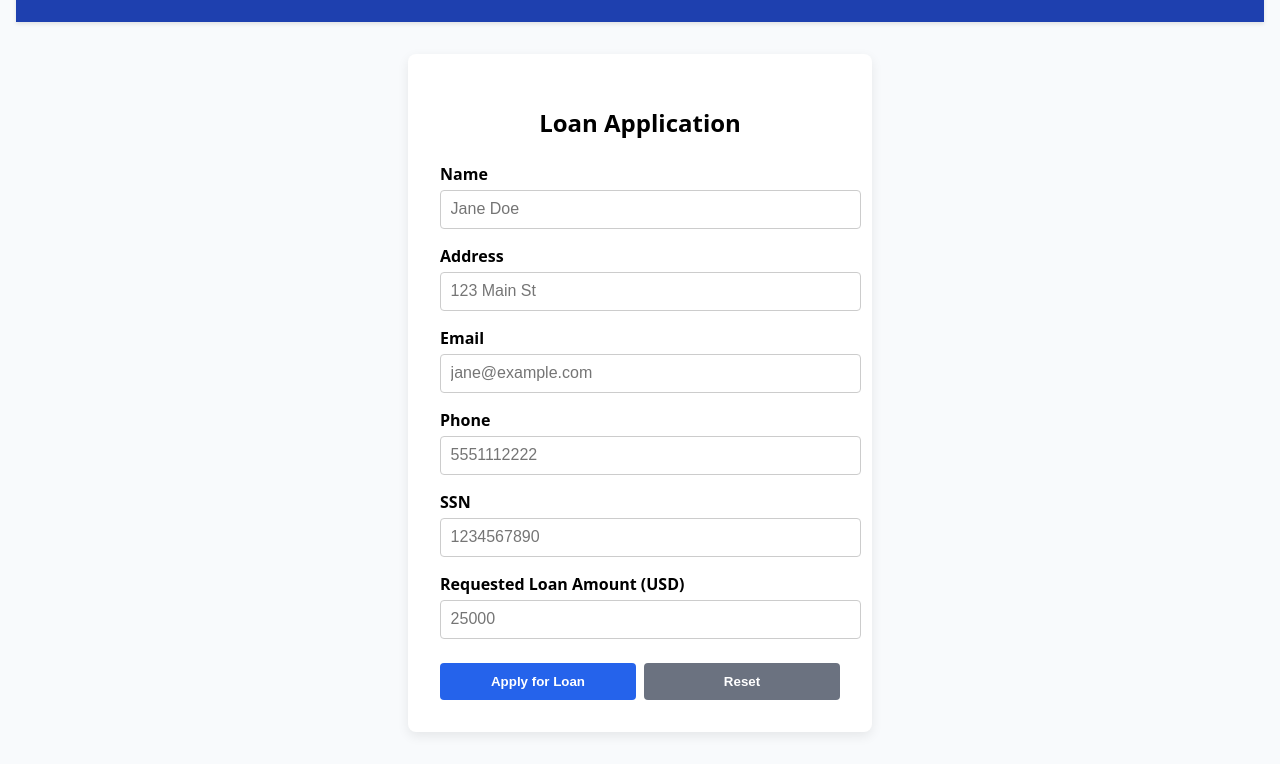
it: LoanApplication › shows error if required fields are missing
(page scrolled)
Click the button "Apply for Loan" at (538, 682), box [440,663,636,700]
(page scrolled)
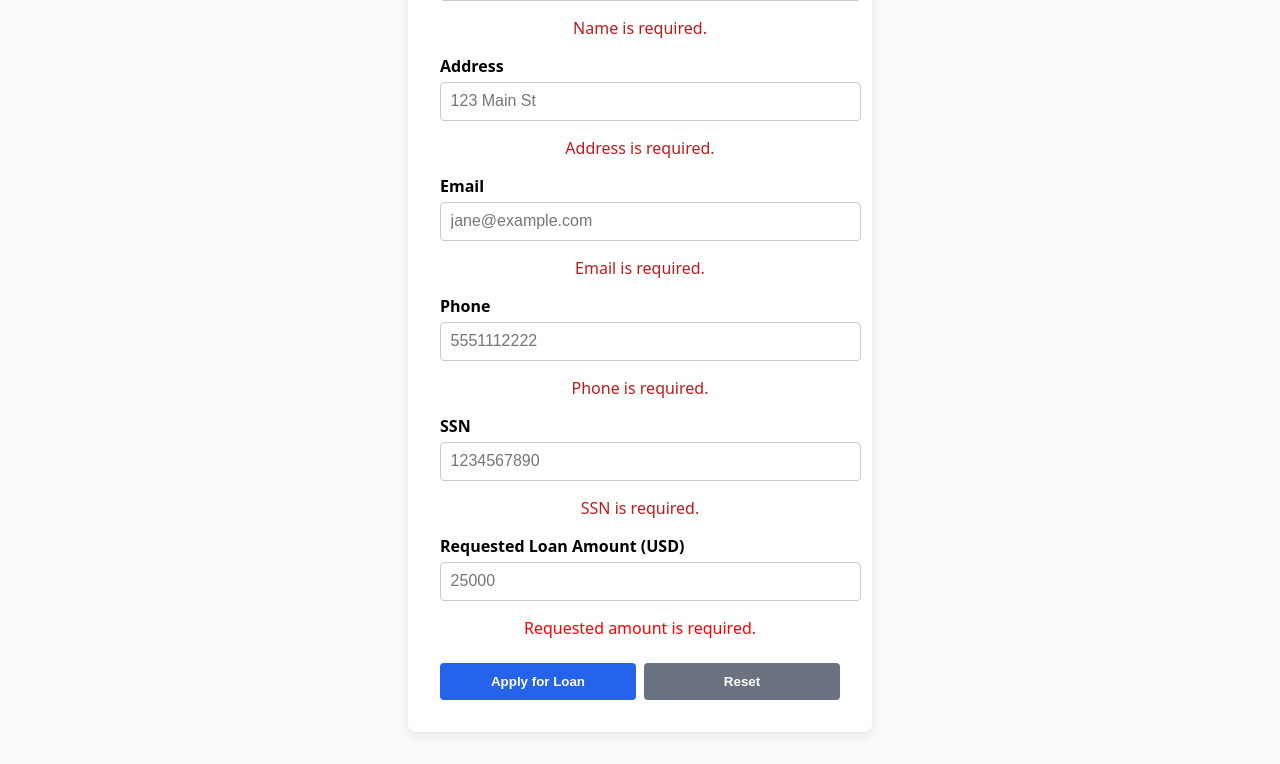
expect the text "Name is required." is shown: met, box [573,17,707,39]
expect the text "Address is required." is shown: met, box [565,137,715,159]
expect the text "Email is required." is shown: met, box [575,257,705,279]
